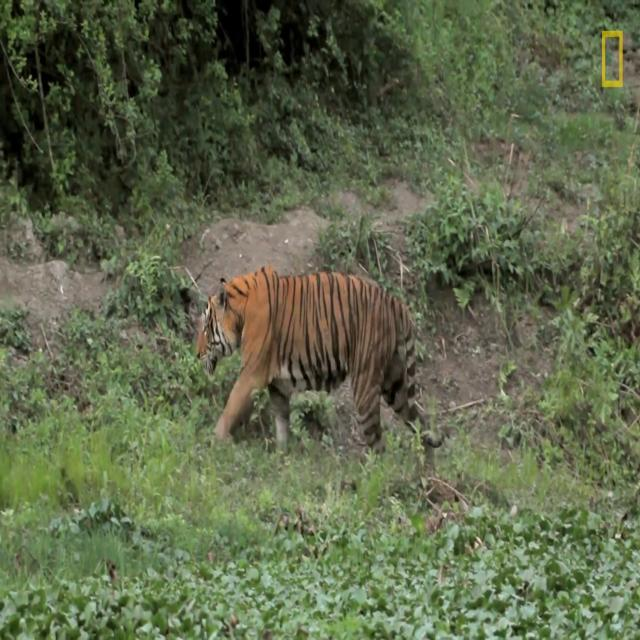TIGER: (189, 262, 441, 451)
